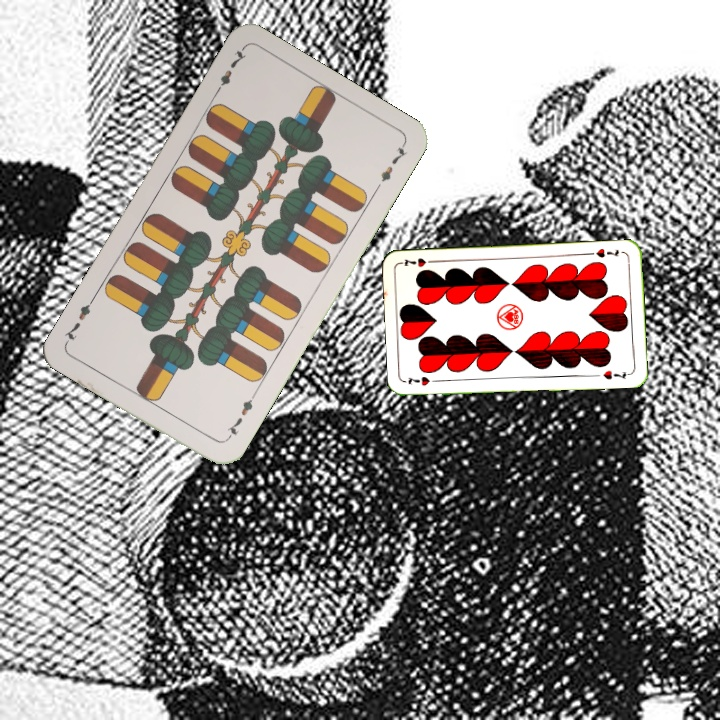E7: (210, 44, 250, 98), (222, 389, 258, 443)
H7: (404, 373, 443, 388), (585, 244, 621, 260)
